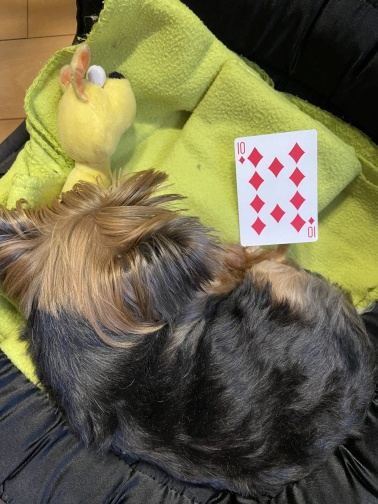ten: (232, 128, 320, 248)
